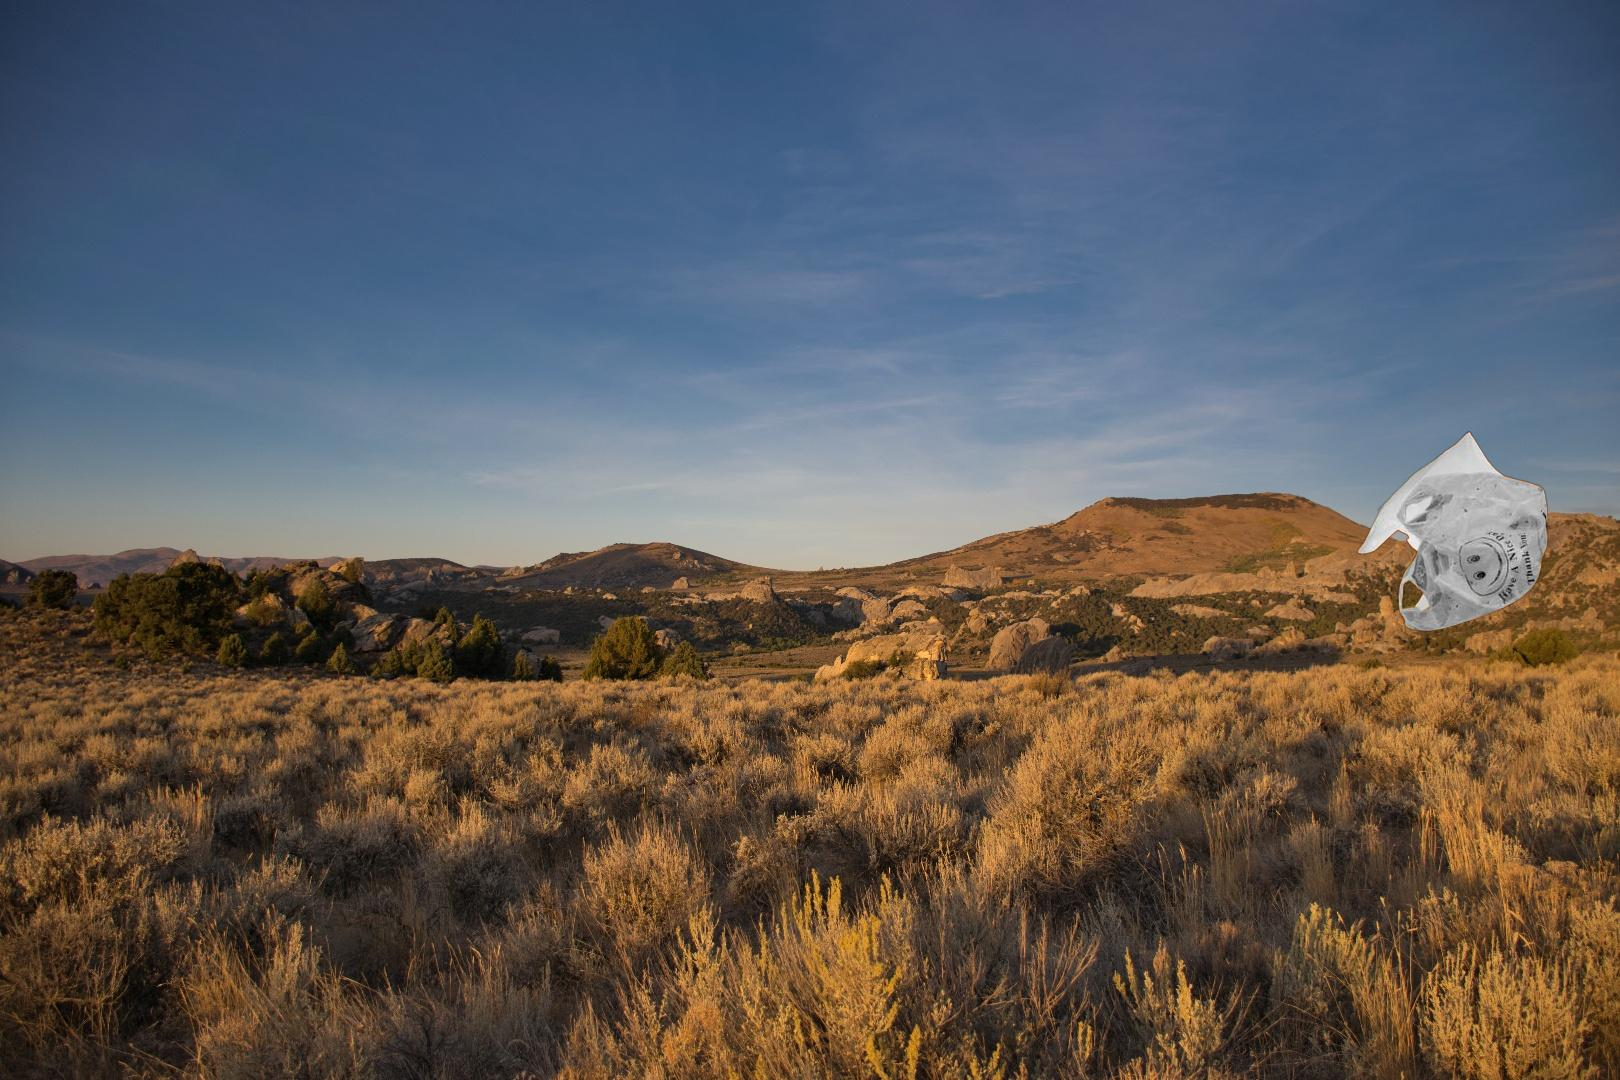plastic-bag: (1354, 429, 1551, 632)
